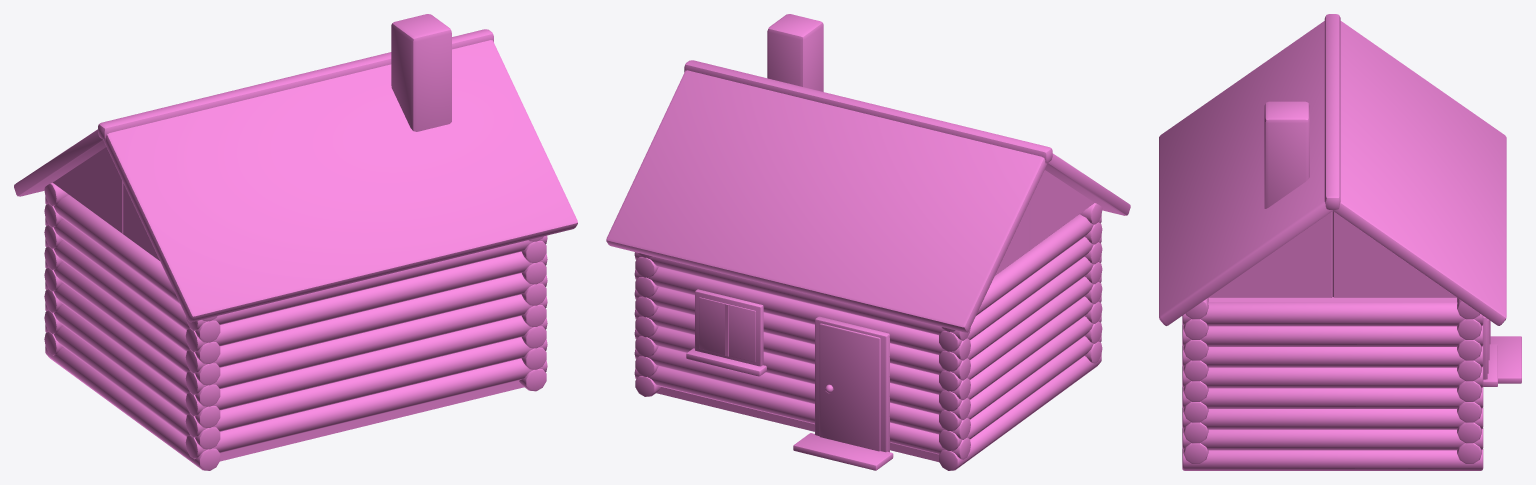
File: Mountain_Cabin.fbx
3 views of the same model, side by side, from view 1: azimuth 30°, elevation 25°; view 2: azimuth 150°, elevation 25°; view 3: azimuth 270°, elevation 25° (orthographic). The views are drawn at different scales.
Visible parts, largest first — view 1: Cabin; view 2: Cabin; view 3: Cabin.
Part boxes in pixels (x1,y1,x2,y2): Cabin: (14,14,577,470); Cabin: (606,14,1130,470); Cabin: (1159,14,1521,470).
Bounding box in the file's own units: 19.2 × 16.15 × 15.92.
1 material, 1 textured.
